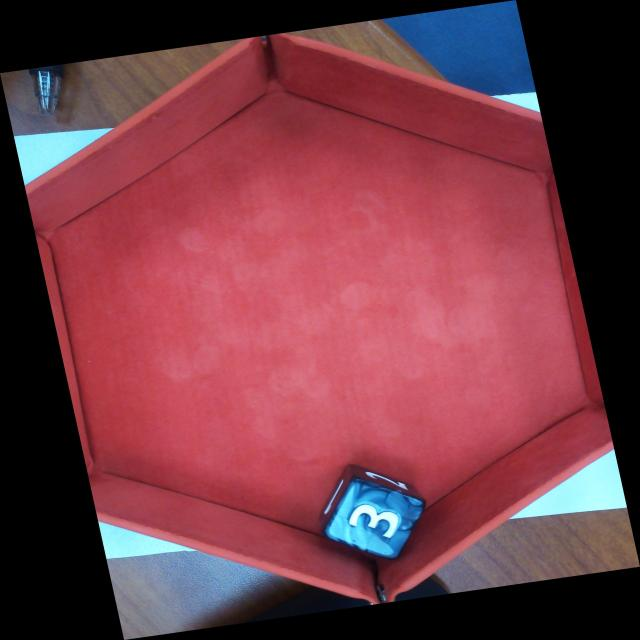dice: (322, 477, 430, 563)
